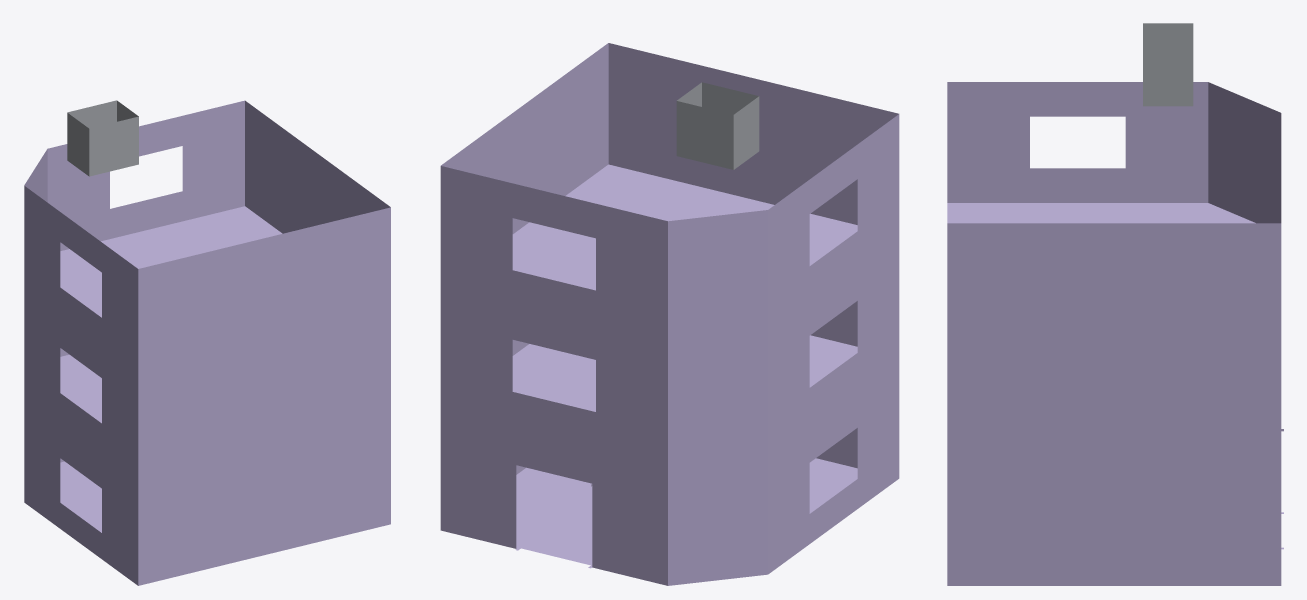
The model's file is Bld_R_high_L1_A.fbx.
The picture shows the model from 3 angles, left to right: view 1: azimuth 30°, elevation 25°; view 2: azimuth 150°, elevation 25°; view 3: azimuth 270°, elevation 25°; orthographic projection. The views are drawn at different scales.
Parts seen in each view (by area): view 1: Bld_R_high_L1_A_LOD0; view 2: Bld_R_high_L1_A_LOD0; view 3: Bld_R_high_L1_A_LOD0.
Boxes of the visible parts, x1,y1,x2,y2 form: Bld_R_high_L1_A_LOD0: (24, 100, 390, 585); Bld_R_high_L1_A_LOD0: (440, 43, 899, 585); Bld_R_high_L1_A_LOD0: (947, 23, 1283, 585).
Size of what is drawn, in the model's own units: 1400 by 2249 by 1400.
1 material, 1 textured.
